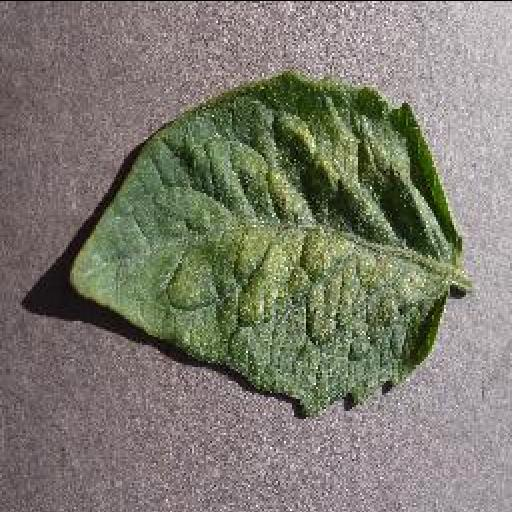disease_tomato: (66, 74, 466, 412)
